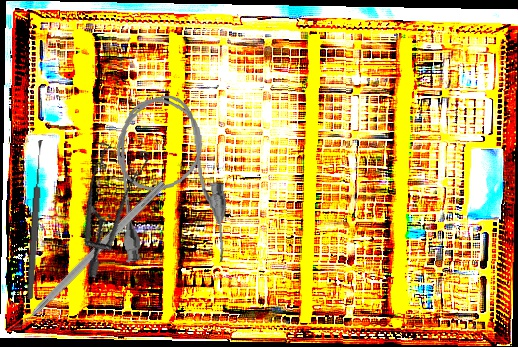Cannula: (106, 90, 234, 274)
Chopper: (0, 171, 168, 338)
Speculum: (60, 131, 174, 279)
Surgical Spoon: (25, 139, 46, 300)
